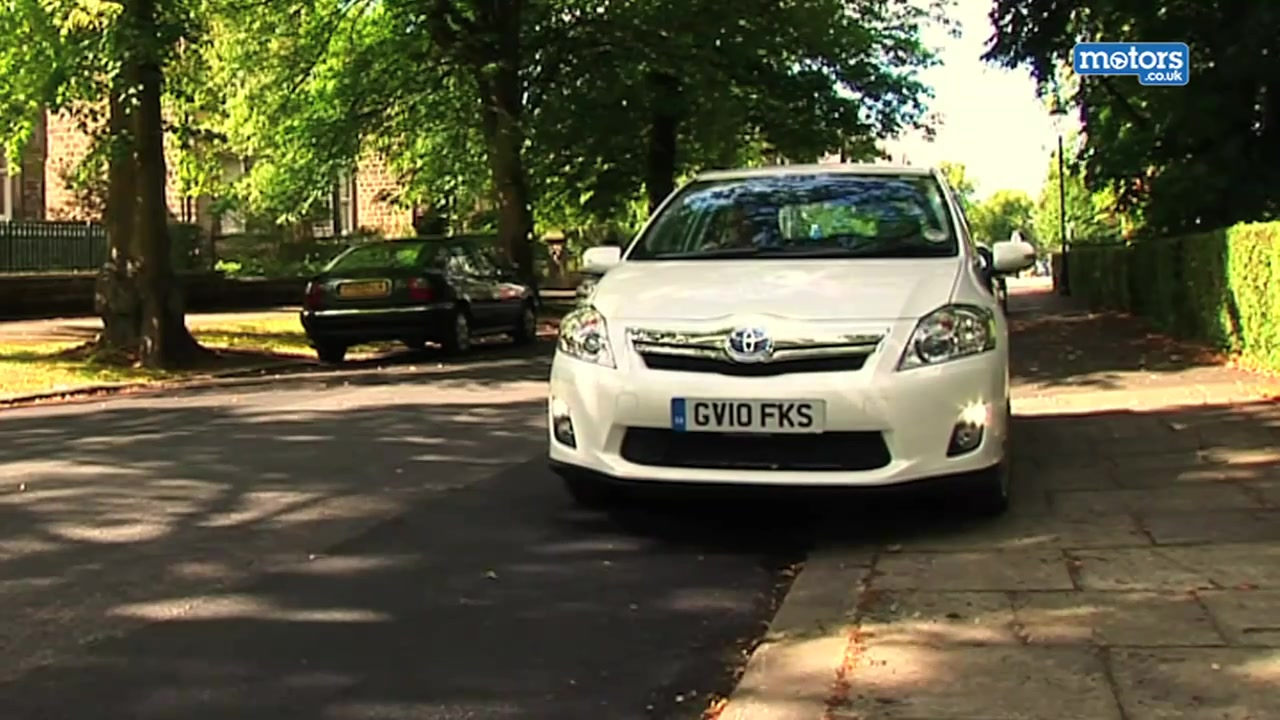car: (545, 171, 1036, 525), (294, 236, 545, 360)
